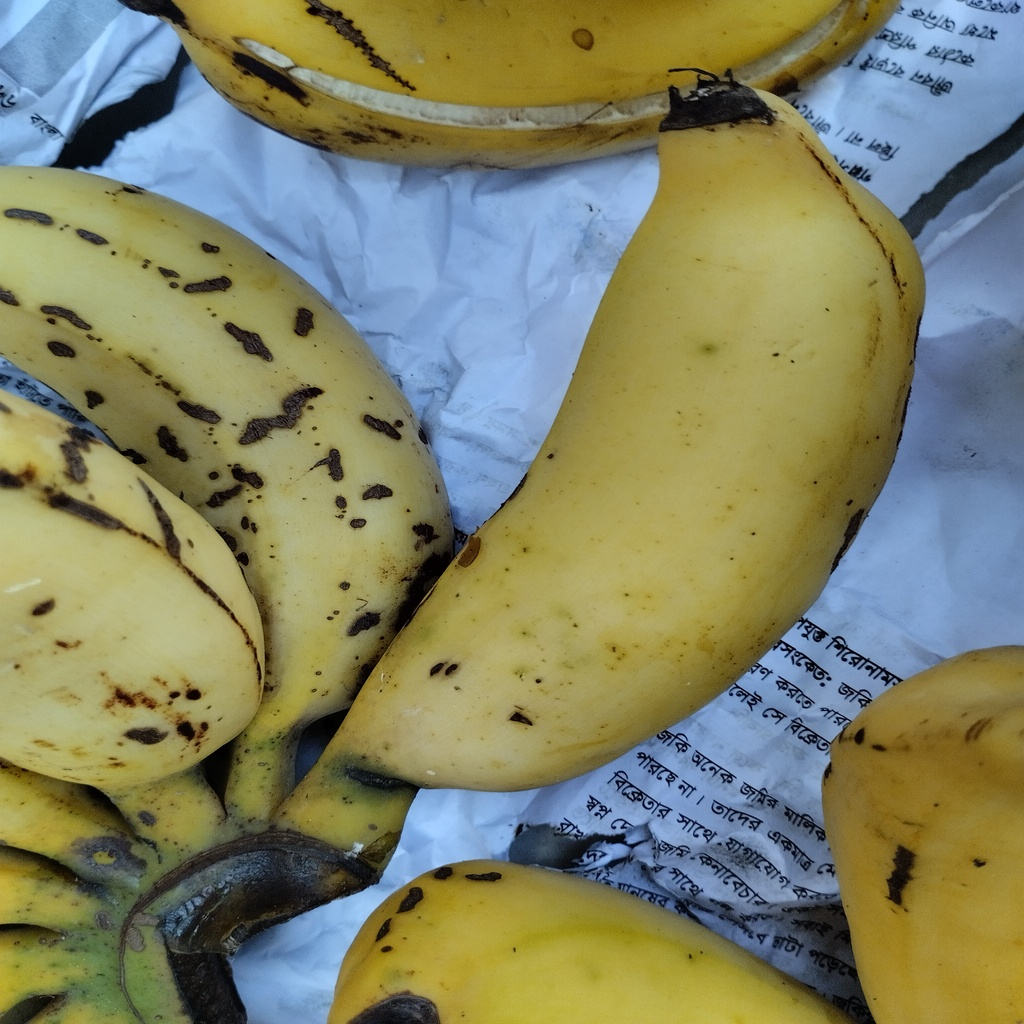unhealthy: (349, 99, 929, 792), (1, 162, 458, 747)
